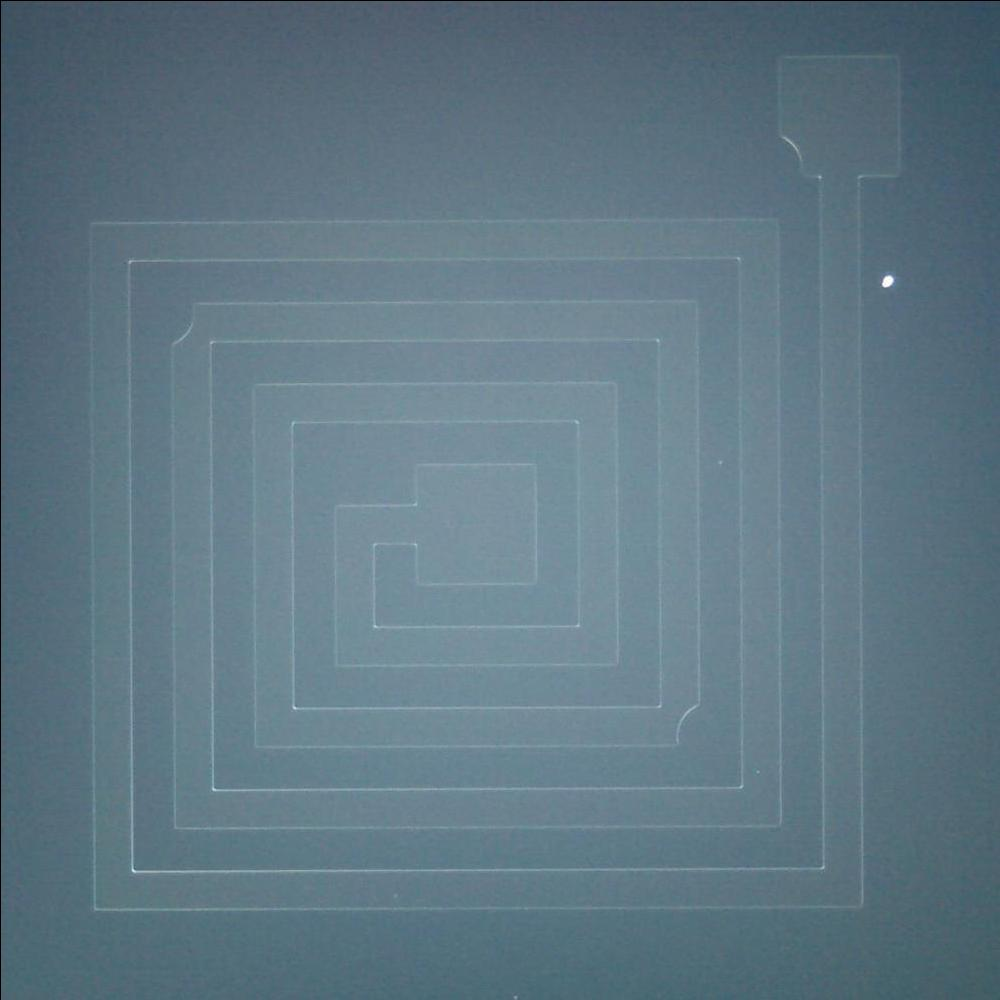curve circuit: (763, 122, 820, 188), (665, 694, 711, 757), (158, 292, 204, 353)
spot: (876, 267, 902, 294)
